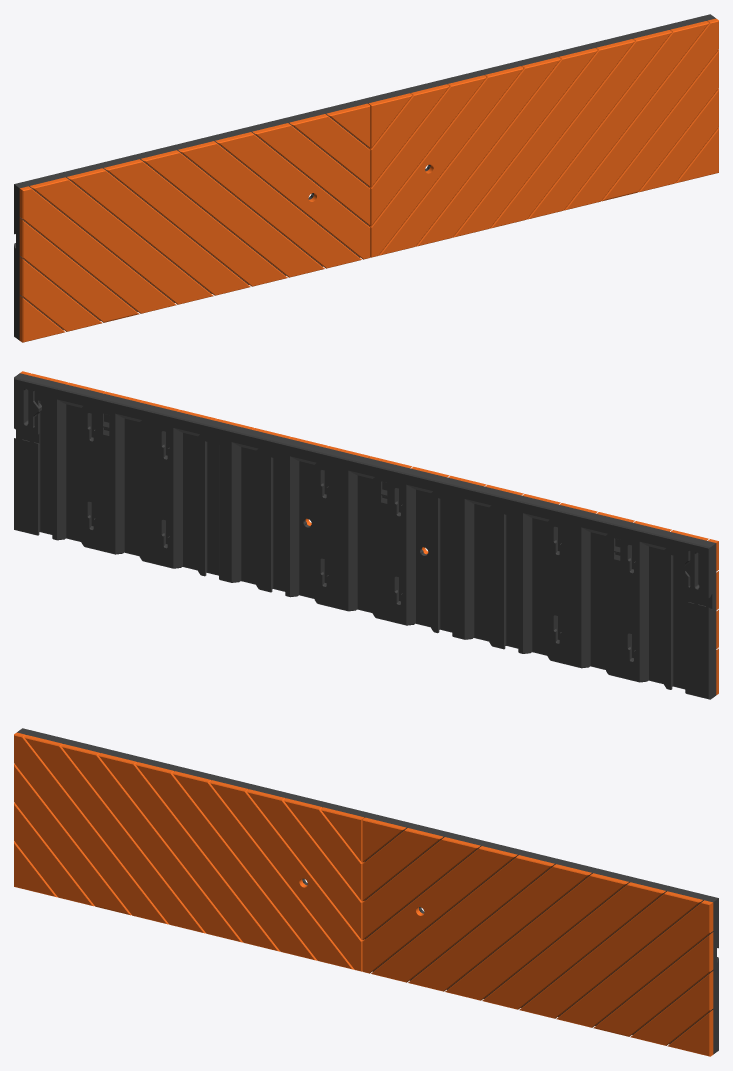
File: Faceplate_Chevron_3W-1H.lib.glb
The picture shows the model from 3 angles, top to bottom: view 1: azimuth 30°, elevation 25°; view 2: azimuth 150°, elevation 25°; view 3: azimuth 330°, elevation 25°; orthographic projection.
Visible parts, largest first — view 1: Faceplate_Chevron_3W-1H; view 2: Faceplate_Chevron_3W-1H; view 3: Faceplate_Chevron_3W-1H.
Boxes of the visible parts, <box> form: Faceplate_Chevron_3W-1H: <box>14,14,718,342</box>; Faceplate_Chevron_3W-1H: <box>14,371,718,699</box>; Faceplate_Chevron_3W-1H: <box>14,728,718,1056</box>.
Size of the model in its own units: 263 by 55 by 6.2.
